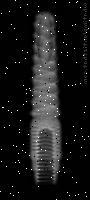Euroteknika: (22, 9, 65, 186)
